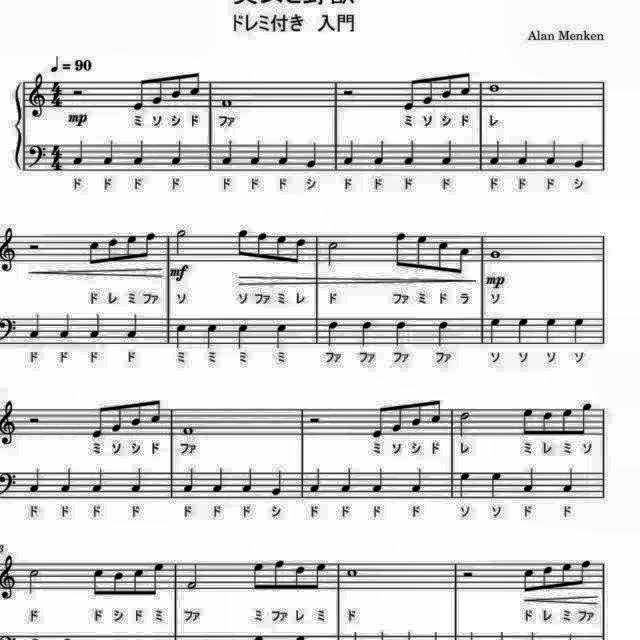Bass-clef: (27, 144, 49, 172)
Eighth-note: (391, 228, 409, 272), (86, 402, 105, 440), (147, 558, 165, 598), (414, 231, 431, 273), (402, 75, 420, 113), (89, 564, 107, 600), (130, 76, 148, 112), (369, 403, 386, 441), (454, 245, 472, 279), (436, 238, 452, 276), (580, 400, 596, 438), (233, 226, 250, 260), (272, 556, 288, 592), (390, 400, 406, 436), (109, 400, 125, 436), (273, 231, 289, 265), (312, 559, 328, 593), (520, 405, 536, 439), (131, 565, 147, 599), (252, 559, 268, 593), (84, 236, 102, 266), (150, 75, 166, 108), (110, 568, 126, 600), (410, 398, 426, 430), (129, 398, 145, 430), (104, 234, 120, 266), (420, 76, 436, 108), (440, 71, 456, 103), (142, 230, 158, 262), (558, 558, 574, 590), (124, 230, 140, 262), (458, 68, 474, 100), (576, 557, 592, 589), (186, 68, 202, 100), (427, 395, 443, 427), (147, 395, 163, 427), (292, 233, 308, 264), (538, 564, 554, 594), (292, 563, 308, 593), (168, 72, 184, 102), (520, 566, 536, 596), (254, 230, 268, 262), (538, 409, 554, 437), (560, 406, 574, 438)
Full-note: (180, 422, 197, 438), (488, 246, 504, 262), (487, 80, 503, 96), (218, 96, 234, 112), (344, 565, 362, 579)
Half-note: (183, 560, 201, 594), (456, 407, 474, 439), (172, 226, 188, 258), (26, 566, 42, 598), (324, 238, 341, 268)
Half-rest: (307, 410, 323, 430), (26, 412, 44, 428), (25, 238, 43, 254), (69, 84, 87, 100), (341, 88, 357, 100), (460, 568, 476, 580)
Quarter-note: (486, 316, 504, 348), (540, 314, 558, 346), (357, 316, 375, 348), (400, 138, 418, 170), (487, 469, 505, 501), (455, 470, 473, 502), (435, 318, 453, 349), (170, 138, 187, 170), (172, 322, 190, 352), (560, 466, 578, 496), (125, 311, 143, 341), (234, 321, 252, 351), (439, 137, 457, 167), (246, 137, 264, 167), (26, 467, 44, 497), (26, 311, 44, 341), (570, 314, 586, 346), (516, 316, 532, 348), (270, 468, 286, 500), (570, 138, 586, 170), (218, 139, 235, 169), (324, 319, 341, 349), (409, 466, 426, 496), (203, 321, 220, 351), (180, 467, 197, 497), (392, 317, 408, 348), (88, 311, 104, 341), (130, 466, 146, 496), (522, 466, 538, 496), (70, 139, 86, 169), (306, 467, 322, 497), (488, 139, 504, 169), (210, 466, 226, 496), (58, 466, 74, 496), (132, 137, 148, 167), (240, 467, 256, 497), (339, 467, 355, 497), (100, 139, 116, 169), (274, 321, 290, 351), (342, 138, 358, 168), (58, 311, 74, 341), (370, 138, 386, 168), (514, 138, 530, 168), (276, 137, 292, 167), (544, 137, 560, 167), (302, 140, 318, 170), (91, 468, 107, 497), (370, 467, 384, 497)
Treble-clef: (26, 70, 49, 120), (0, 224, 20, 276), (1, 552, 20, 604), (1, 396, 20, 448)
